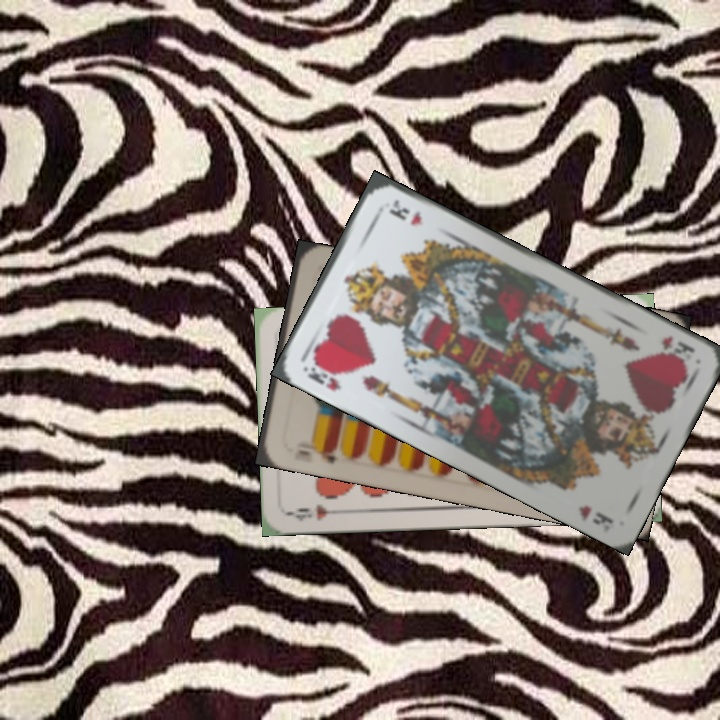E10: (293, 438, 339, 466)
H9: (286, 501, 345, 524)
HK: (301, 355, 344, 394), (657, 332, 698, 368)
